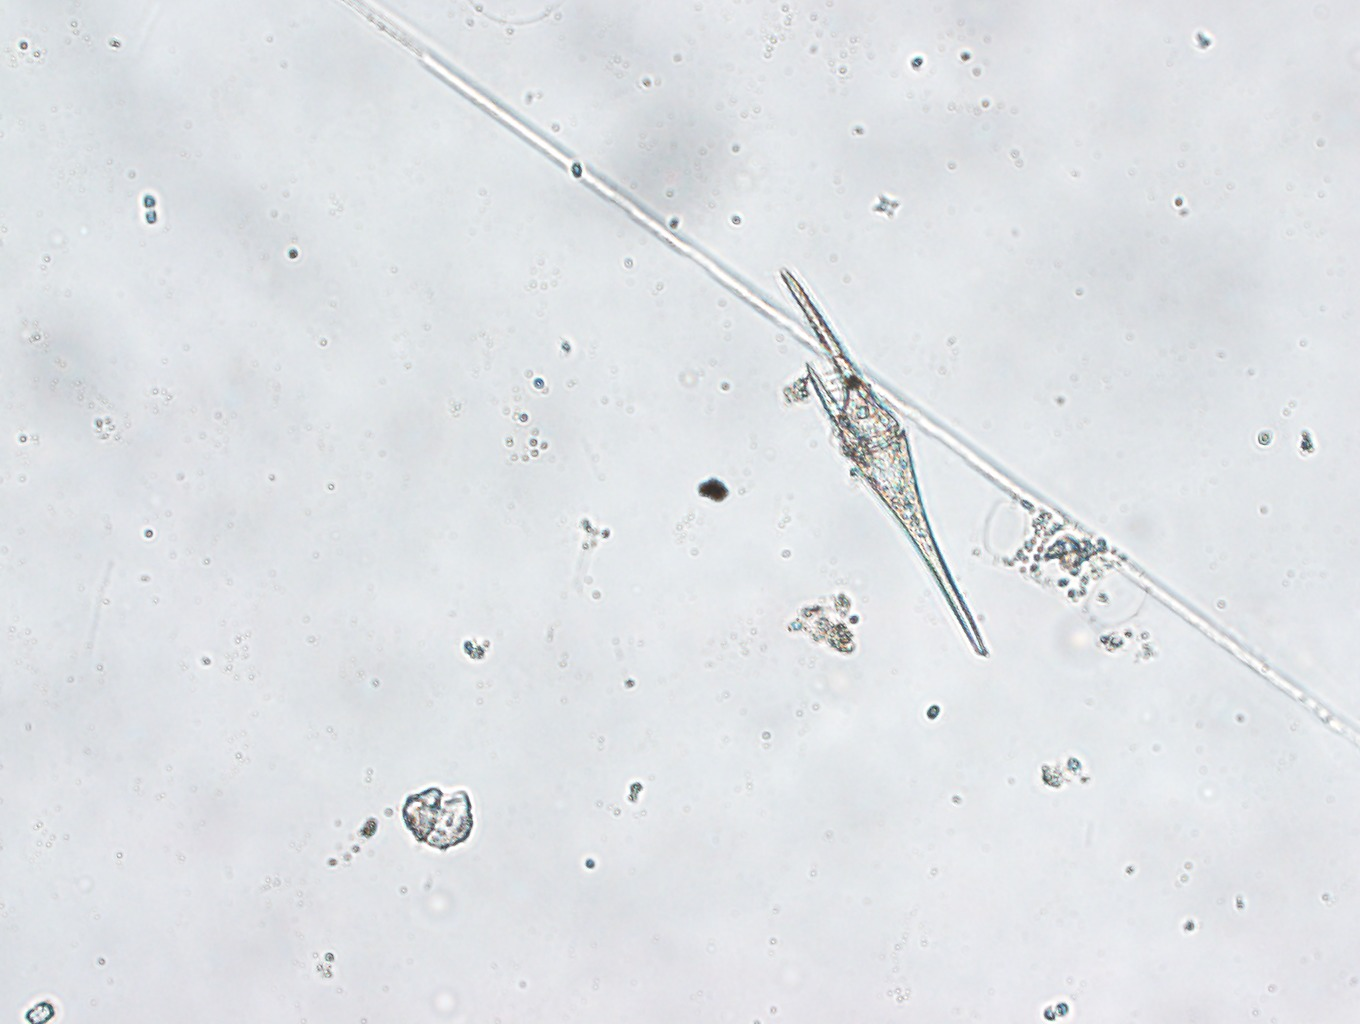ceratium furca: (777, 264, 988, 662)
